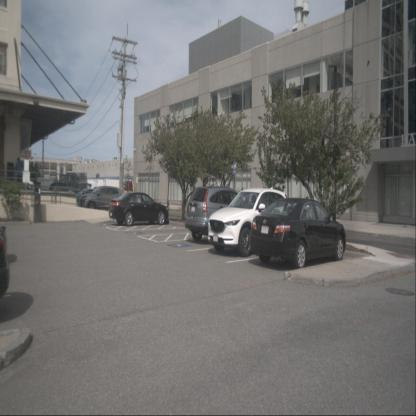human-pedestrian-adult: (15, 157, 24, 190)
vehicle-car: (249, 197, 346, 270), (207, 187, 292, 257), (185, 186, 258, 242), (109, 192, 168, 225), (82, 186, 122, 211)
vehicle-truck: (64, 171, 87, 193)
